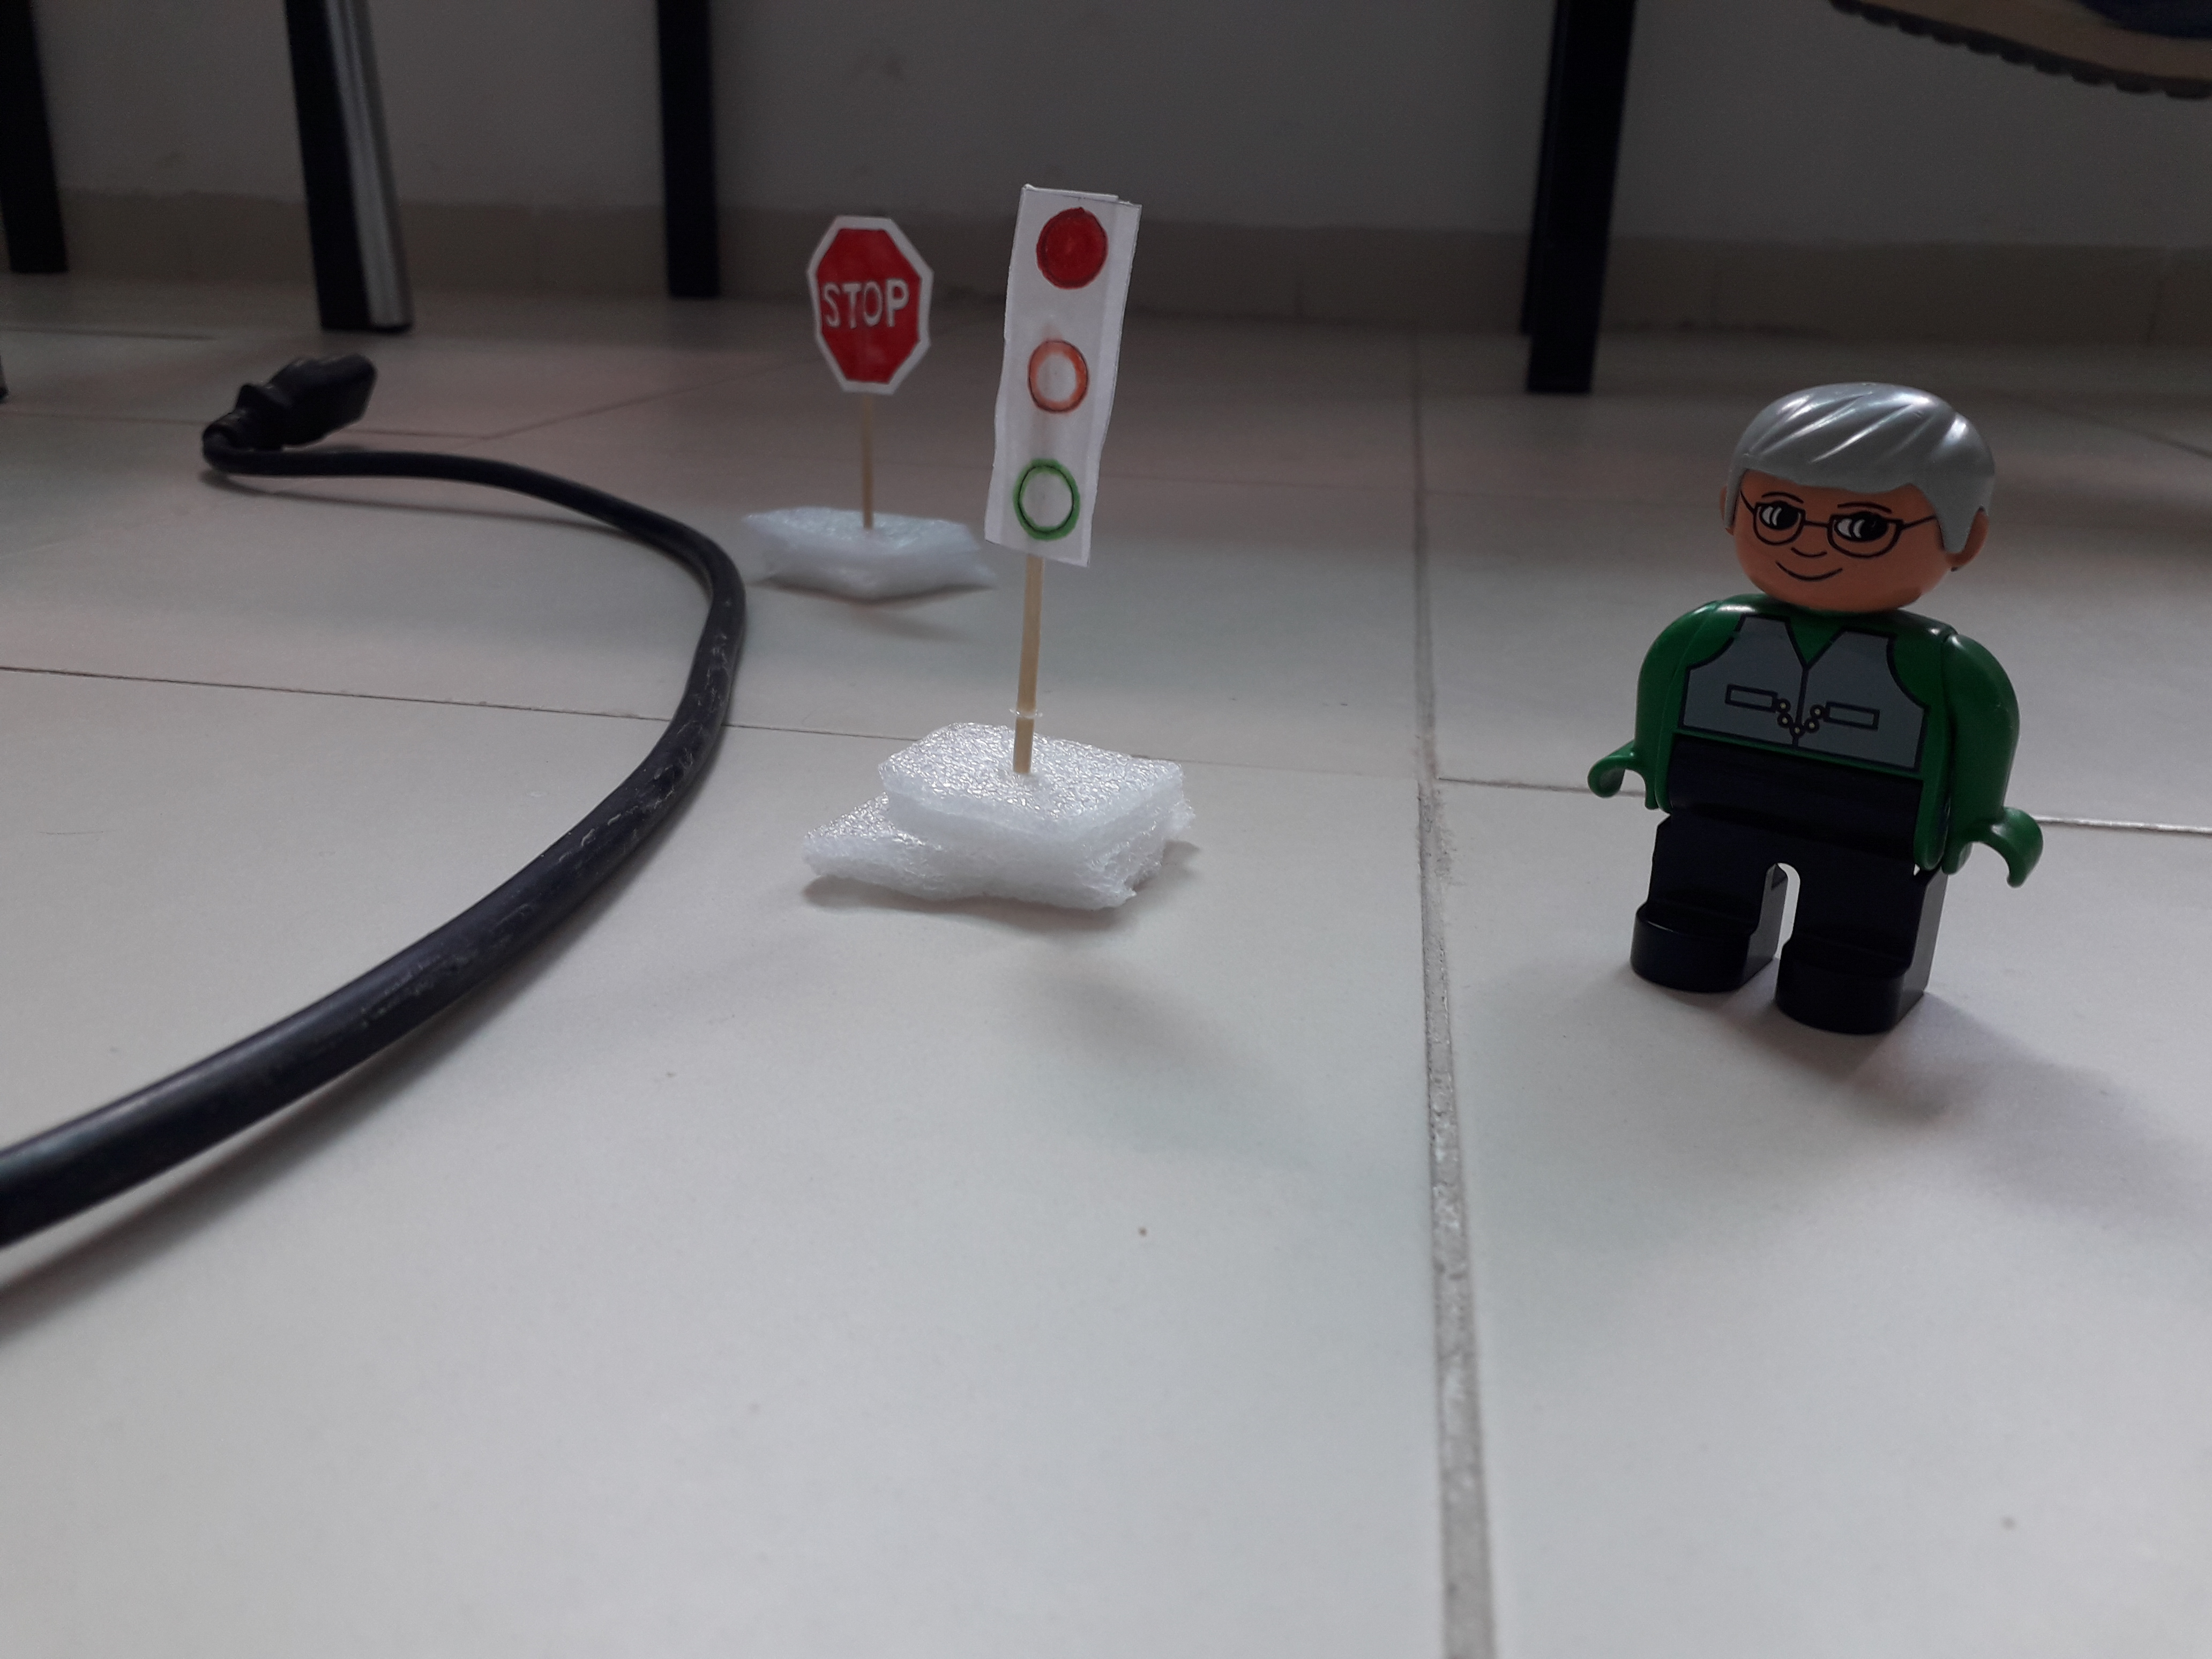person: (1595, 372, 2056, 1038)
red_light: (972, 181, 1153, 574)
stop_sign: (798, 209, 926, 393)
